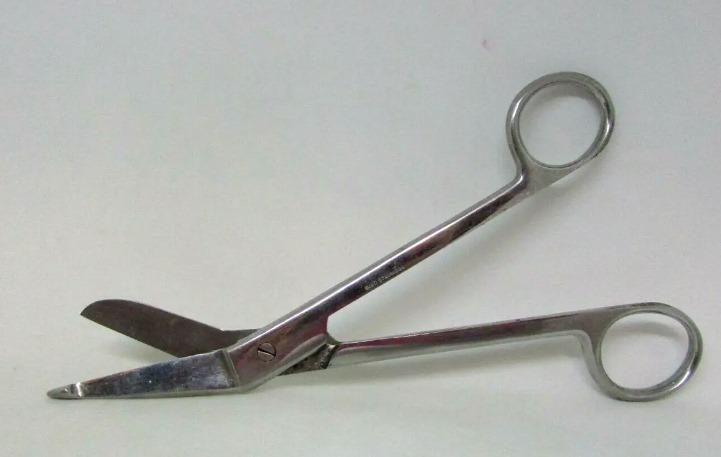Bandage Sciccors: (34, 62, 705, 421)
